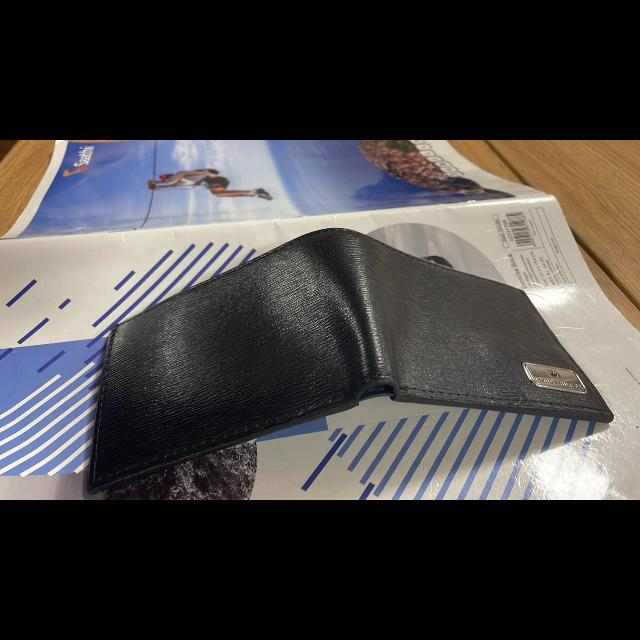wallet: (61, 217, 623, 499)
